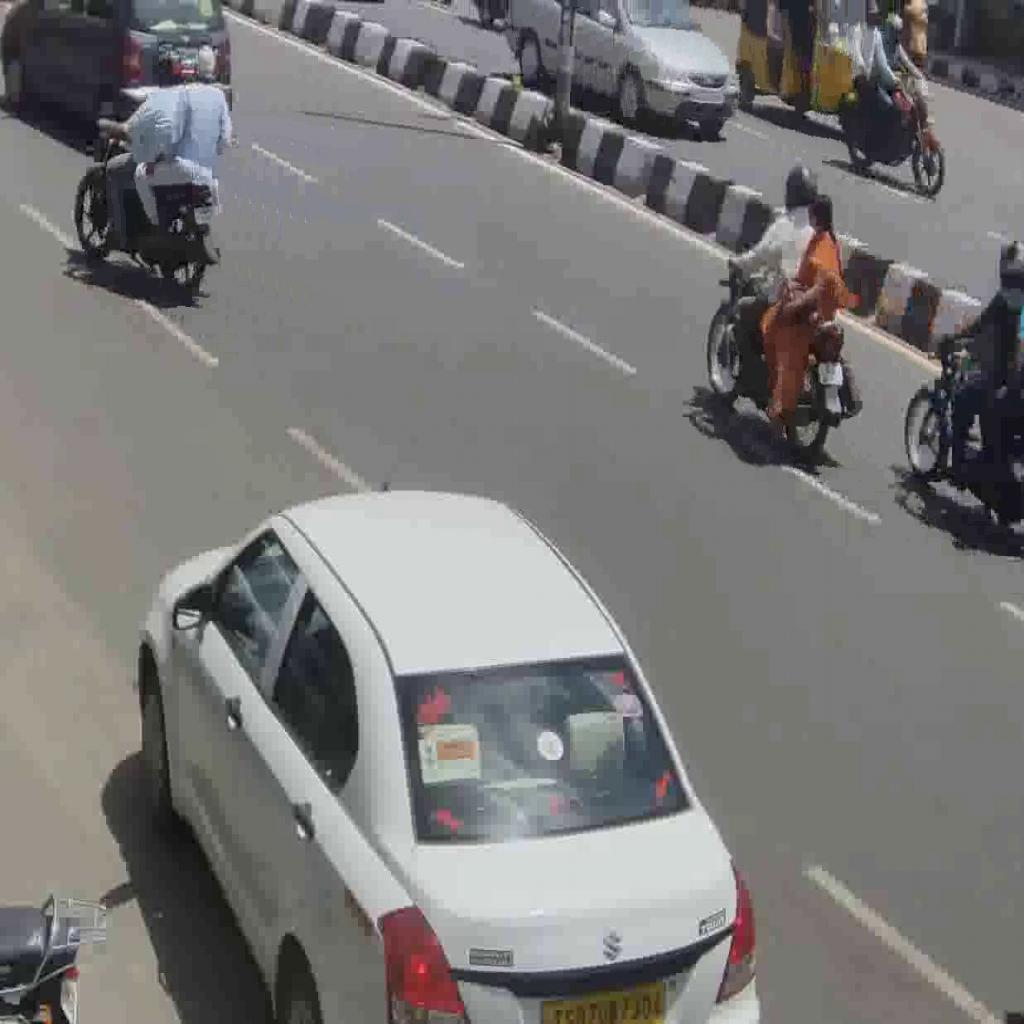bike: (706, 244, 864, 459), (74, 114, 224, 298), (904, 328, 1024, 534)
helmet: (782, 159, 817, 216), (150, 43, 184, 89)
lisc: (818, 361, 844, 386), (193, 205, 214, 225)
no_helmet: (807, 194, 835, 237), (191, 43, 218, 87)
noise: (838, 0, 946, 198)
rider: (720, 159, 818, 399), (758, 191, 846, 421), (134, 44, 233, 247), (100, 42, 185, 251)
